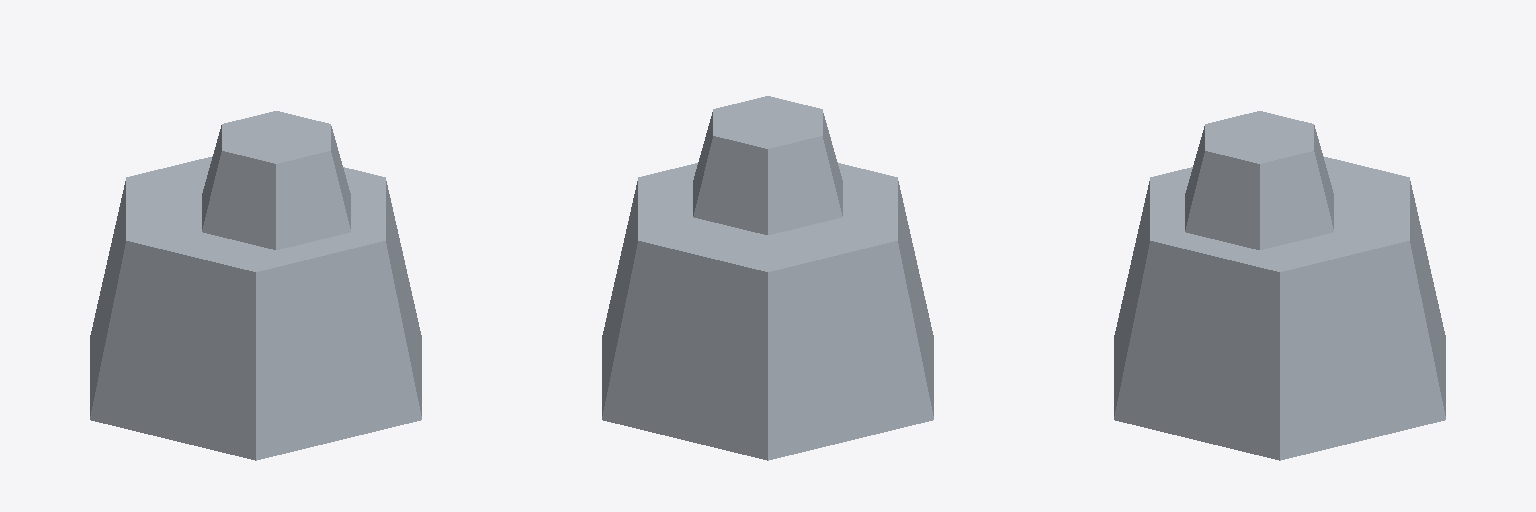
The picture shows the model from 3 angles: view 1: azimuth 30°, elevation 25°; view 2: azimuth 150°, elevation 25°; view 3: azimuth 270°, elevation 25°; orthographic projection.
Visible parts, largest first — view 1: Mesh1 Rock_2 Model; view 2: Mesh1 Rock_2 Model; view 3: Mesh1 Rock_2 Model.
Boxes of the visible parts, x1=… form: Mesh1 Rock_2 Model: x1=90, y1=111, x2=421, y2=460; Mesh1 Rock_2 Model: x1=602, y1=96, x2=933, y2=460; Mesh1 Rock_2 Model: x1=1114, y1=111, x2=1445, y2=460.
Bounding box in the file's own units: 1 × 0.71 × 0.866.